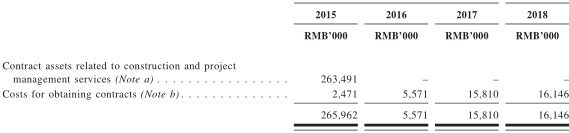column: (3, 1, 236, 133), (373, 1, 427, 133), (445, 1, 499, 133), (515, 1, 569, 133), (305, 1, 358, 133)
row: (1, 28, 569, 41), (1, 108, 569, 120), (1, 9, 569, 20), (1, 61, 569, 72), (1, 74, 569, 85), (1, 90, 569, 101)
